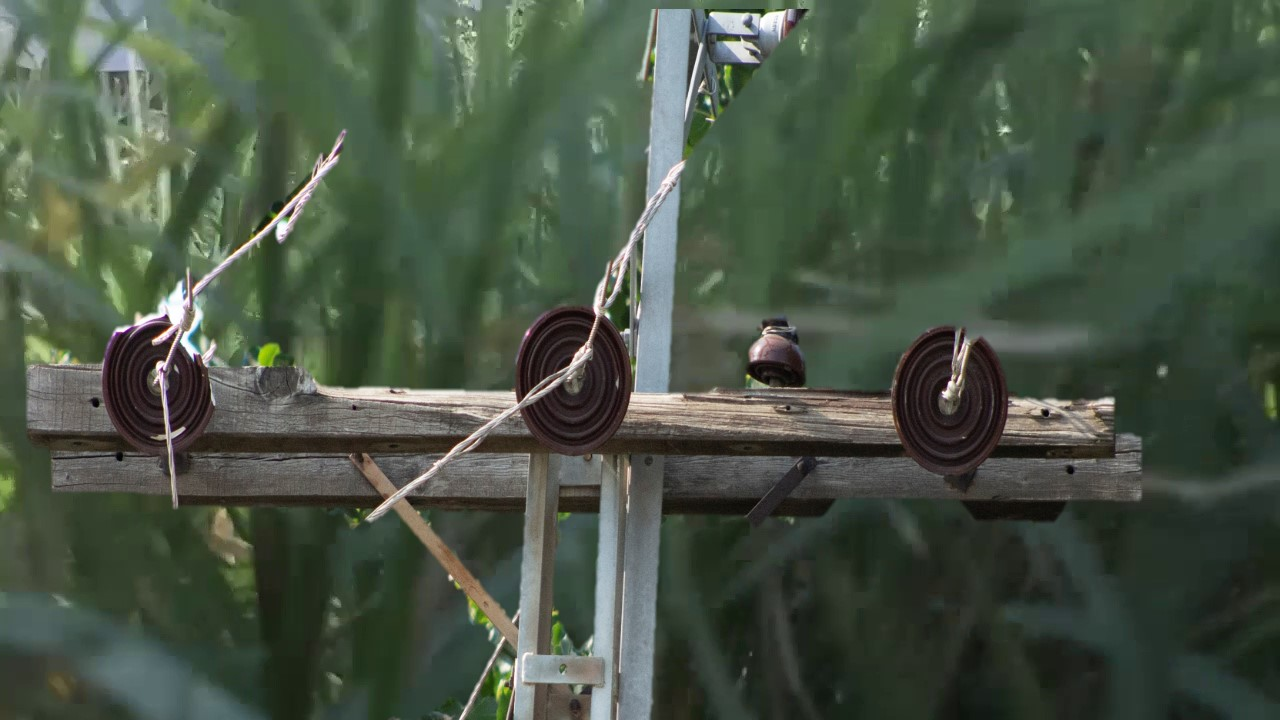defect_disc: (98, 309, 222, 461)
insulator_disc: (509, 304, 639, 467), (887, 318, 1012, 483)
insulator_pin: (742, 311, 813, 391)
